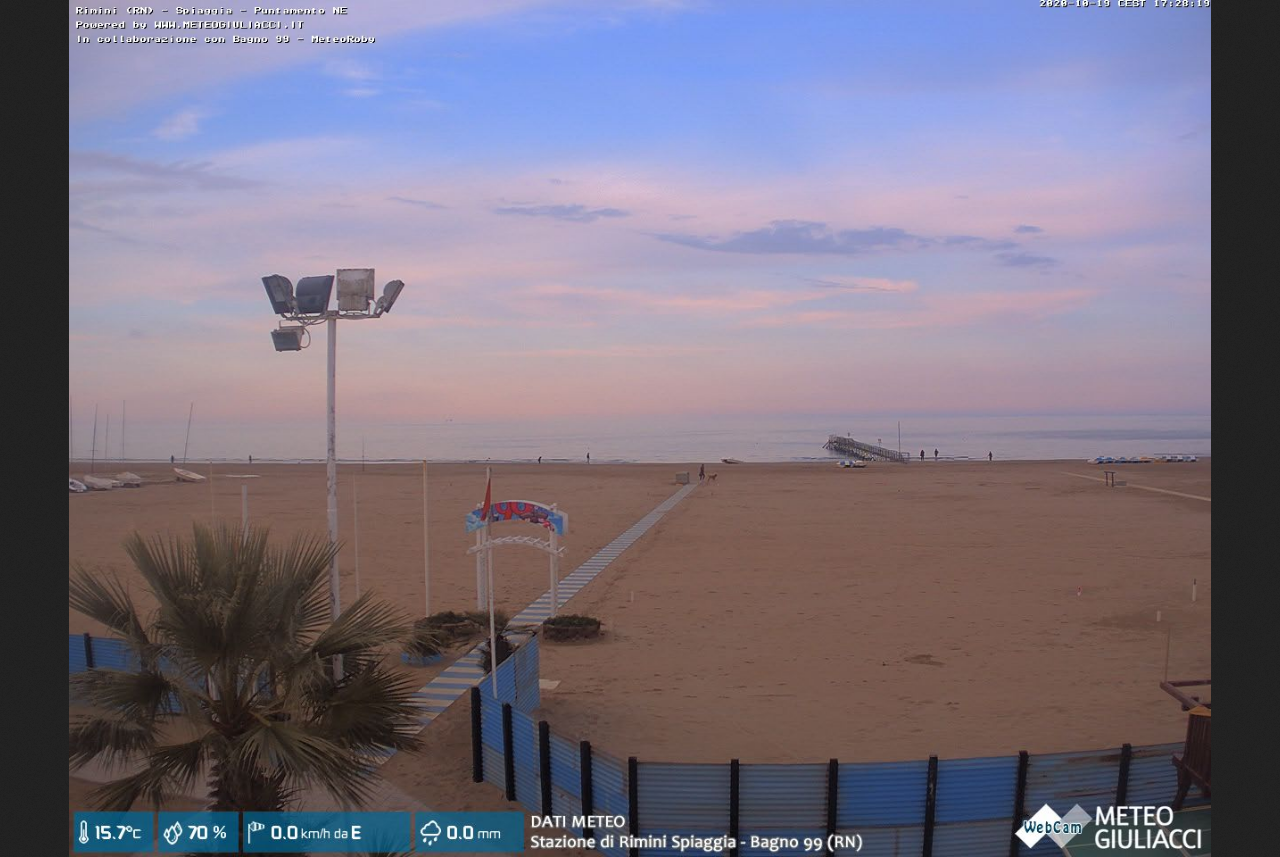no: (474, 462, 499, 526)
